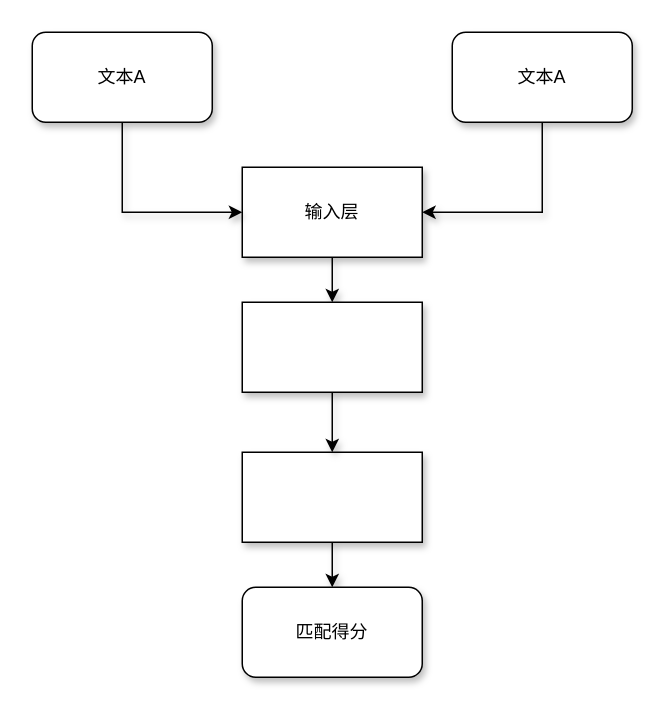
The diagram is 668 pixels wide and 714 high, and some of its shapes have lost their labels. The centre of each missing label's shape, as x and y in pixels:
匹配层: (x=333, y=499)
表示层: (x=333, y=349)
